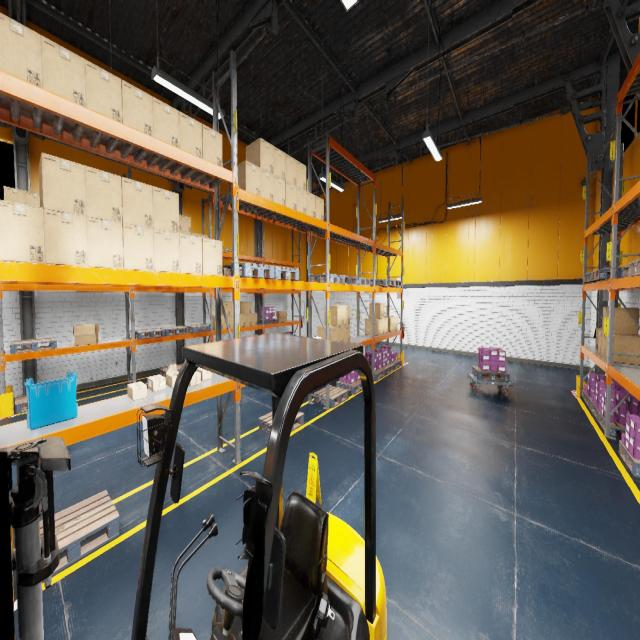box: (41, 35, 86, 107), (0, 12, 42, 87), (39, 152, 86, 216), (0, 200, 45, 263), (44, 209, 88, 266), (85, 59, 122, 123), (85, 165, 122, 223), (87, 217, 123, 268), (121, 80, 153, 136), (121, 177, 153, 228), (123, 223, 154, 271), (153, 96, 179, 148), (152, 186, 179, 233), (153, 228, 180, 272), (179, 110, 202, 158), (602, 307, 640, 335), (605, 334, 640, 364), (246, 138, 273, 174), (180, 233, 202, 274), (602, 332, 636, 358), (202, 124, 222, 166), (238, 161, 260, 196), (202, 238, 222, 276), (73, 323, 99, 345), (260, 168, 274, 201), (324, 305, 344, 326), (274, 146, 286, 180), (127, 381, 147, 400), (4, 186, 25, 204), (274, 174, 285, 206), (318, 325, 338, 341), (286, 154, 296, 186), (166, 363, 178, 388), (334, 304, 349, 324), (296, 160, 306, 190), (286, 181, 296, 210), (148, 375, 166, 391), (365, 318, 380, 336), (306, 191, 316, 217), (297, 186, 306, 214), (24, 191, 40, 206), (369, 303, 384, 318), (384, 316, 398, 331), (196, 368, 212, 380), (316, 196, 324, 220), (594, 327, 602, 350), (188, 371, 200, 386), (240, 301, 251, 314), (213, 316, 223, 330), (182, 215, 190, 232), (241, 313, 251, 326), (276, 311, 287, 322), (221, 302, 230, 315), (344, 324, 350, 341), (598, 330, 602, 355), (223, 316, 230, 328), (338, 325, 343, 341), (251, 313, 257, 325), (239, 314, 245, 326), (380, 318, 384, 334), (229, 302, 233, 314), (179, 214, 182, 230), (384, 318, 387, 333), (230, 315, 233, 328), (182, 230, 191, 234), (200, 234, 208, 238), (191, 232, 199, 236), (179, 230, 182, 233)
forklift: (0, 332, 387, 640)
pallets: (40, 490, 119, 581), (589, 400, 640, 420), (258, 412, 304, 434), (618, 440, 640, 478), (223, 262, 274, 278), (314, 385, 348, 408), (10, 338, 57, 353), (598, 411, 626, 436), (253, 266, 299, 280), (472, 366, 509, 382), (337, 379, 362, 395), (591, 268, 621, 280), (312, 274, 345, 284), (135, 328, 165, 339), (160, 364, 182, 378), (159, 326, 189, 336), (15, 396, 28, 414), (185, 324, 210, 333), (584, 272, 606, 282), (628, 258, 640, 276), (346, 277, 370, 286), (370, 279, 394, 286), (381, 363, 394, 375), (583, 390, 591, 408), (374, 368, 386, 380), (389, 359, 402, 370), (379, 280, 402, 286), (345, 276, 358, 284), (258, 319, 277, 324), (621, 265, 628, 278)
